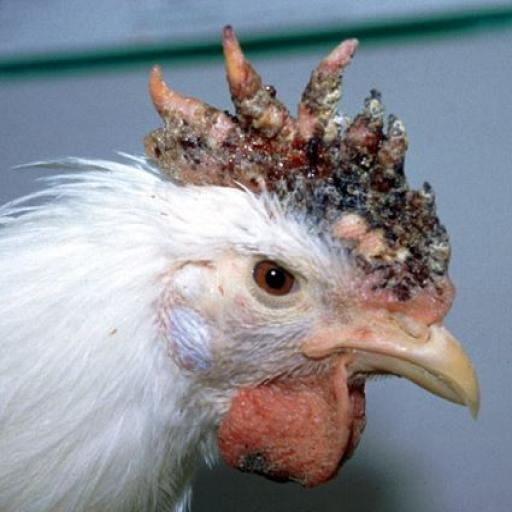disease: (140, 12, 483, 319), (221, 401, 340, 493)
